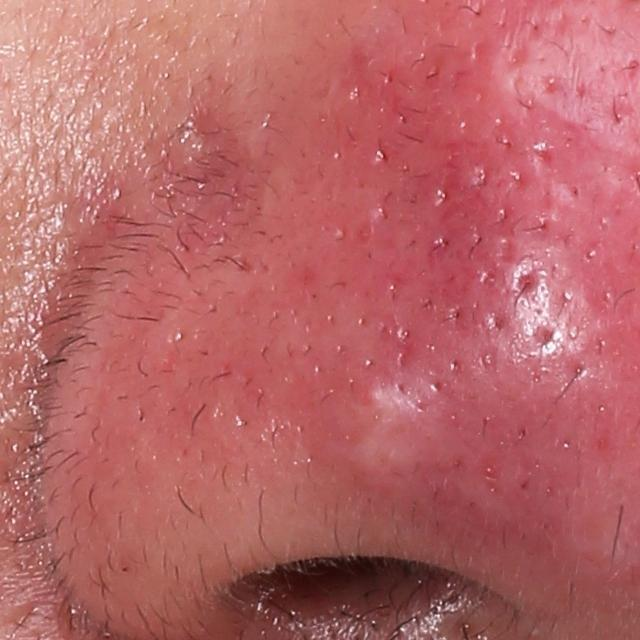hypertrophic_scar: (333, 380, 421, 492)
